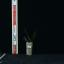leaf: (24, 28, 31, 43), (30, 30, 37, 42), (32, 34, 36, 42), (24, 37, 29, 42), (22, 39, 28, 42)
